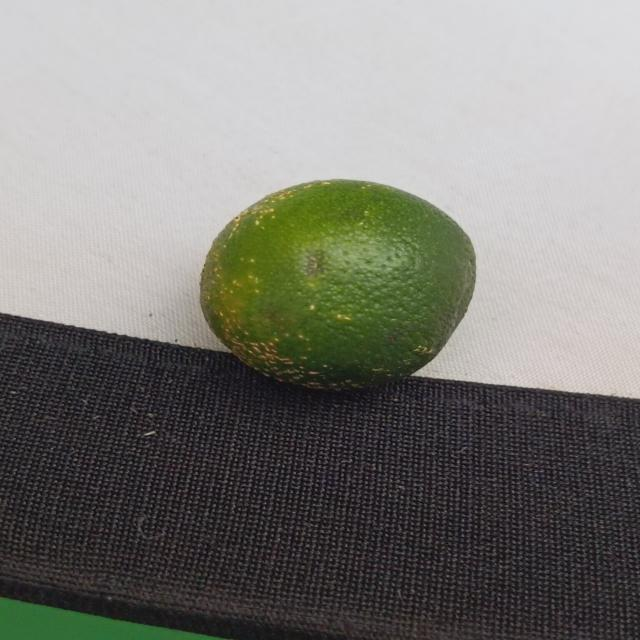scab: (187, 192, 462, 406)
